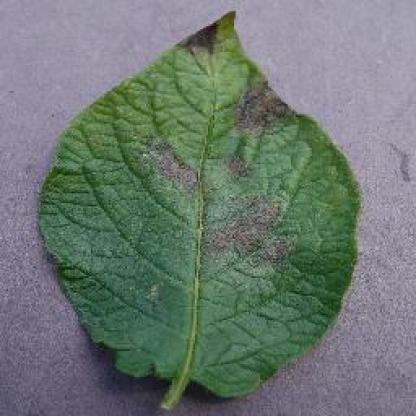bad leaf: (108, 9, 309, 278)
